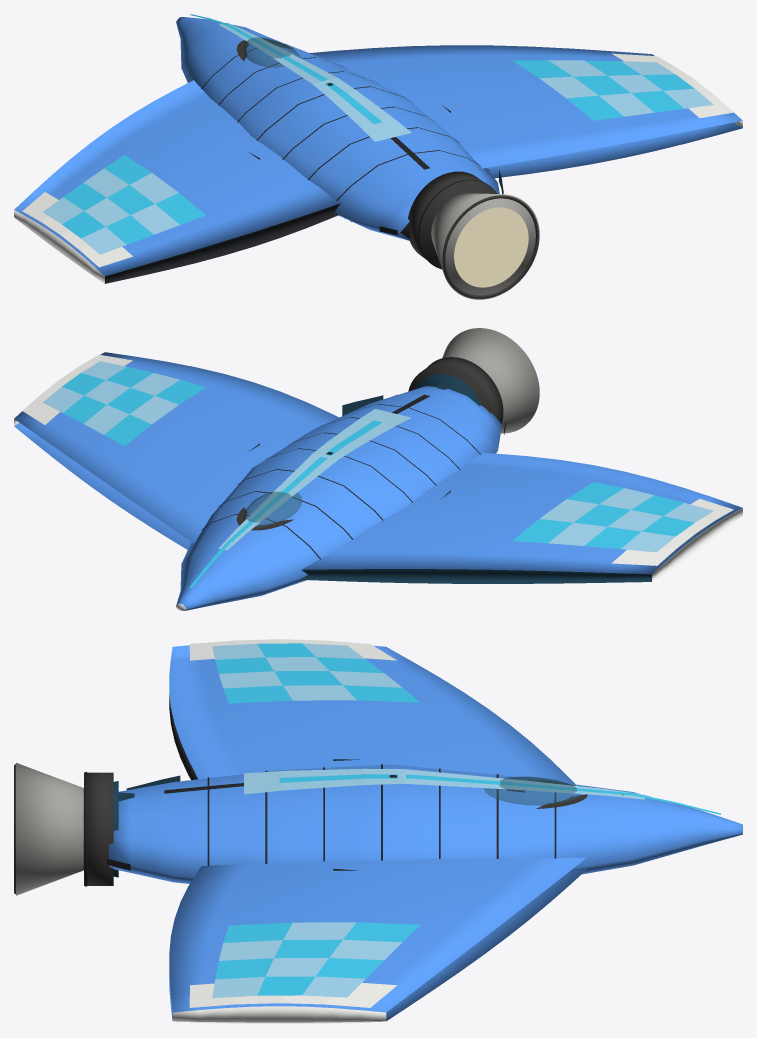
The model's file is Ship_ManraRay_190663.glb.
3 renders of one model, top to bottom at view 1: azimuth 30°, elevation 25°; view 2: azimuth 150°, elevation 25°; view 3: azimuth 270°, elevation 25°, orthographic. The views are drawn at different scales.
Visible parts, largest first — view 1: Wing_Left_MantaAerofoil, Fuselage_CentralRayHull_FacetedAeroBody, Wing_Right_MantaAerofoil, EngineEmitter, EngineBell_CentralMainRocketNozzle, PaintDorsalSweep_PrimaryMantaArrow, EngineMount_AftCentralTailBlock, WingTipTrim_Left_HardCutOuterPlate_Top, WingTipTrim_Right_HardCutOuterPlate_Top, CanopyGlass_LowInsetMantaDome, EngineBell_CentralDarkLip, PaintDorsalSweep_SecondaryNeedleLine (+24 smaller); view 2: Fuselage_CentralRayHull_FacetedAeroBody, Wing_Left_MantaAerofoil, Wing_Right_MantaAerofoil, EngineBell_CentralMainRocketNozzle, PaintDorsalSweep_PrimaryMantaArrow, EngineMount_AftCentralTailBlock, WingTipTrim_Left_HardCutOuterPlate_Top, CanopyGlass_LowInsetMantaDome, WingTipTrim_Right_HardCutOuterPlate_Top, PaintDorsalSweep_SecondaryNeedleLine, PaintOuterChecker_Left_01_03_Top, PaintOuterChecker_Left_02_03_Top (+23 smaller); view 3: Fuselage_CentralRayHull_FacetedAeroBody, Wing_Right_MantaAerofoil, Wing_Left_MantaAerofoil, EngineBell_CentralMainRocketNozzle, PaintDorsalSweep_PrimaryMantaArrow, EngineMount_AftCentralTailBlock, WingTipTrim_Right_HardCutOuterPlate_Top, CanopyGlass_LowInsetMantaDome, PaintDorsalSweep_SecondaryNeedleLine, WingTipTrim_Left_HardCutOuterPlate_Top, PaintOuterChecker_Right_01_03_Top, PaintOuterChecker_Right_02_03_Top (+22 smaller).
Boxes of the visible parts, box(x1,y1,x2,y2) form: Wing_Left_MantaAerofoil: box(14, 80, 340, 283); Fuselage_CentralRayHull_FacetedAeroBody: box(176, 17, 499, 240); Wing_Right_MantaAerofoil: box(310, 45, 742, 178); EngineEmitter: box(454, 207, 528, 287); EngineBell_CentralMainRocketNozzle: box(431, 193, 539, 299); PaintDorsalSweep_PrimaryMantaArrow: box(219, 22, 411, 141); EngineMount_AftCentralTailBlock: box(408, 171, 496, 268); WingTipTrim_Left_HardCutOuterPlate_Top: box(22, 192, 132, 267); WingTipTrim_Right_HardCutOuterPlate_Top: box(612, 53, 733, 117); CanopyGlass_LowInsetMantaDome: box(243, 37, 301, 67); EngineBell_CentralDarkLip: box(442, 195, 538, 298); PaintDorsalSweep_SecondaryNeedleLine: box(189, 14, 382, 124); Fuselage_CentralRayHull_FacetedAeroBody: box(176, 386, 501, 610); Wing_Left_MantaAerofoil: box(300, 452, 742, 583); Wing_Right_MantaAerofoil: box(14, 352, 338, 549); EngineBell_CentralMainRocketNozzle: box(442, 328, 539, 433); PaintDorsalSweep_PrimaryMantaArrow: box(218, 409, 411, 550); EngineMount_AftCentralTailBlock: box(408, 357, 503, 422); WingTipTrim_Left_HardCutOuterPlate_Top: box(612, 499, 733, 565); CanopyGlass_LowInsetMantaDome: box(243, 491, 301, 527); WingTipTrim_Right_HardCutOuterPlate_Top: box(22, 354, 132, 424); PaintDorsalSweep_SecondaryNeedleLine: box(189, 420, 382, 587); PaintOuterChecker_Left_01_03_Top: box(512, 519, 572, 543); PaintOuterChecker_Left_02_03_Top: box(548, 522, 606, 545); Fuselage_CentralRayHull_FacetedAeroBody: box(109, 764, 742, 883); Wing_Right_MantaAerofoil: box(169, 857, 587, 1022); Wing_Left_MantaAerofoil: box(169, 645, 575, 784); EngineBell_CentralMainRocketNozzle: box(16, 763, 83, 895); PaintDorsalSweep_PrimaryMantaArrow: box(244, 768, 644, 799); EngineMount_AftCentralTailBlock: box(84, 772, 113, 885); WingTipTrim_Right_HardCutOuterPlate_Top: box(189, 982, 396, 1007); CanopyGlass_LowInsetMantaDome: box(484, 776, 580, 805); PaintDorsalSweep_SecondaryNeedleLine: box(279, 774, 720, 814); WingTipTrim_Left_HardCutOuterPlate_Top: box(189, 639, 396, 660); PaintOuterChecker_Right_01_03_Top: box(343, 922, 420, 942); PaintOuterChecker_Right_02_03_Top: box(329, 939, 402, 960).
Size of the model in its own units: 7.74 by 1.19 by 6.52.
